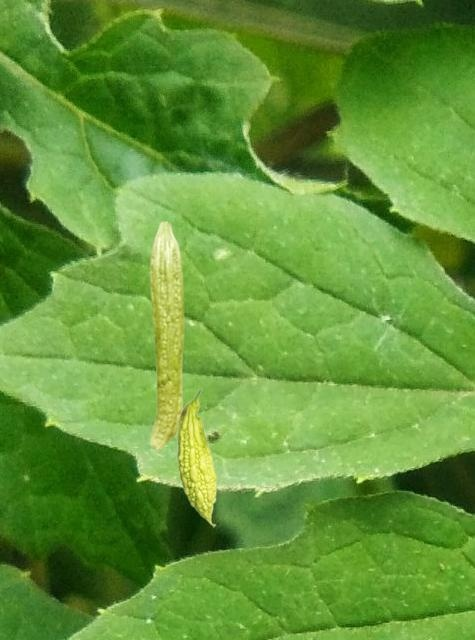ampalaya: (147, 219, 185, 451), (175, 388, 219, 528)
